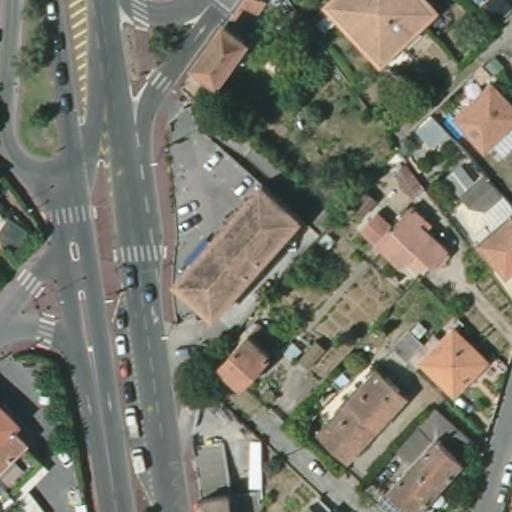pool: (441, 107, 470, 144)
